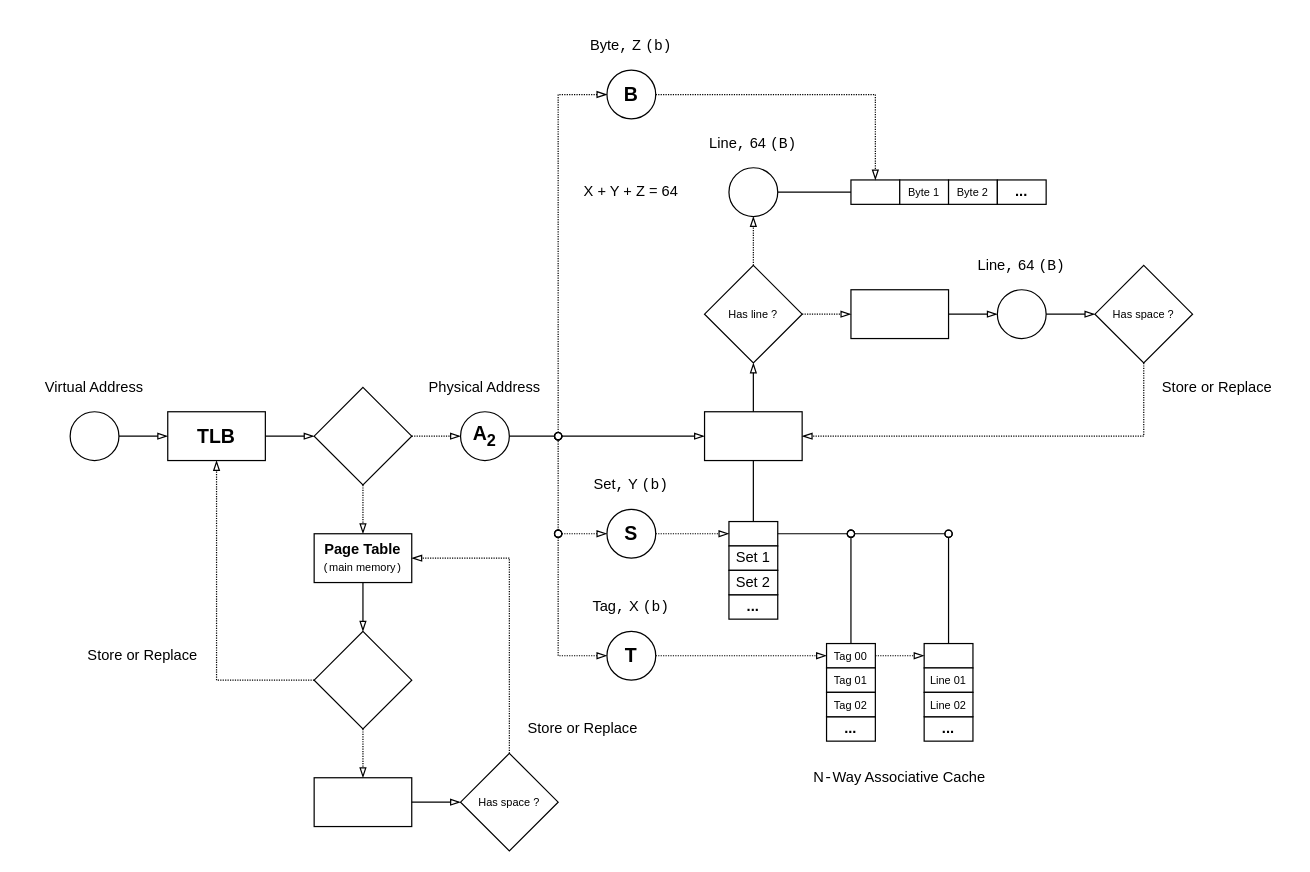
This 1310x872 diagram has some shape labels left out. Each missing label, with the centre of its shape:
"A 1" goes at (x=94, y=436).
"Byte 0" goes at (x=875, y=191).
"Cache ( L1 , L2 , L3 )" goes at (x=752, y=436).
"Has entry ?" goes at (x=362, y=435).
"Has page ?" goes at (x=362, y=679).
"L 1" goes at (x=753, y=192).
"L 2" goes at (x=1021, y=314).
"Line 00" goes at (x=948, y=655).
"RAM" goes at (x=899, y=314).
"Set 0" goes at (x=753, y=533).
"SSD , HDD" goes at (x=362, y=802).
